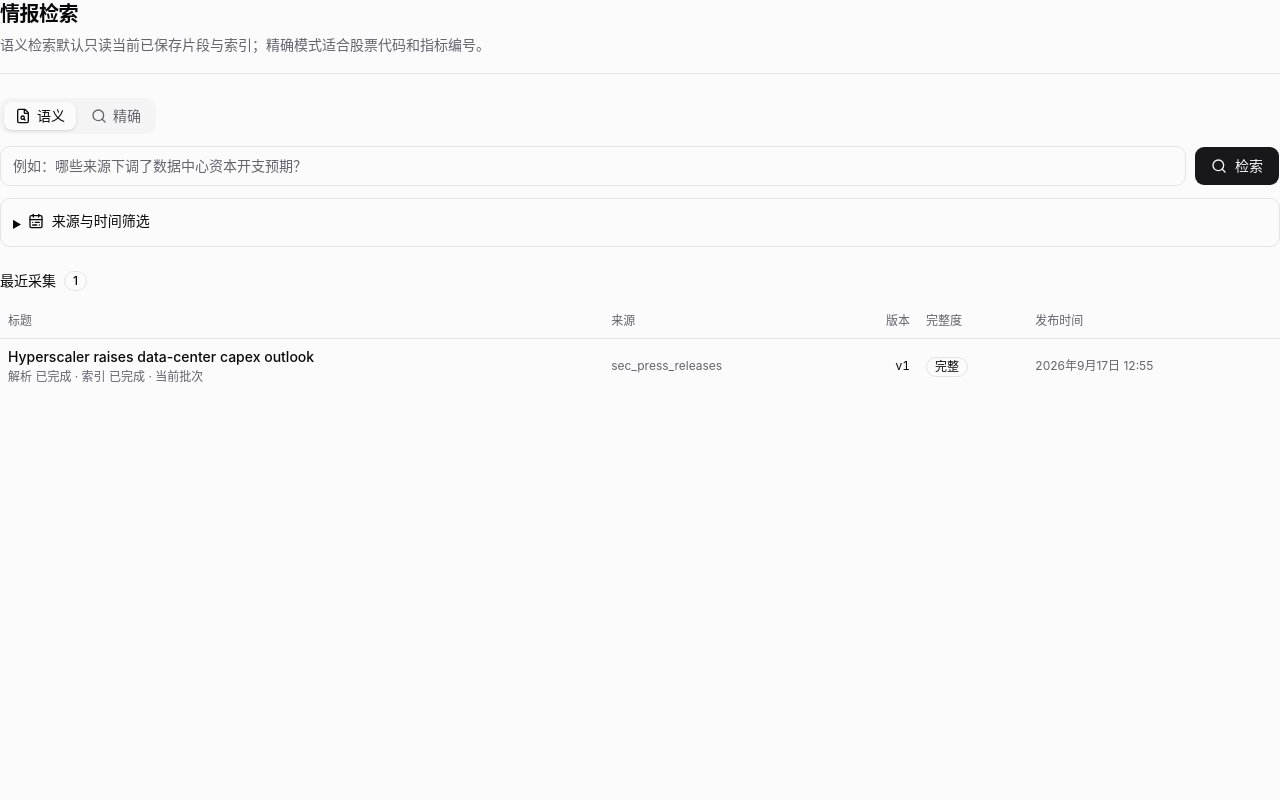
IntelligencePage against real API response shapes › renders the recent-documents list and opens the detail from it
Click the button "Hyperscaler raises data-center capex outlook".
click(302, 366)  # box top-left (8, 347), bottom-right (595, 385)
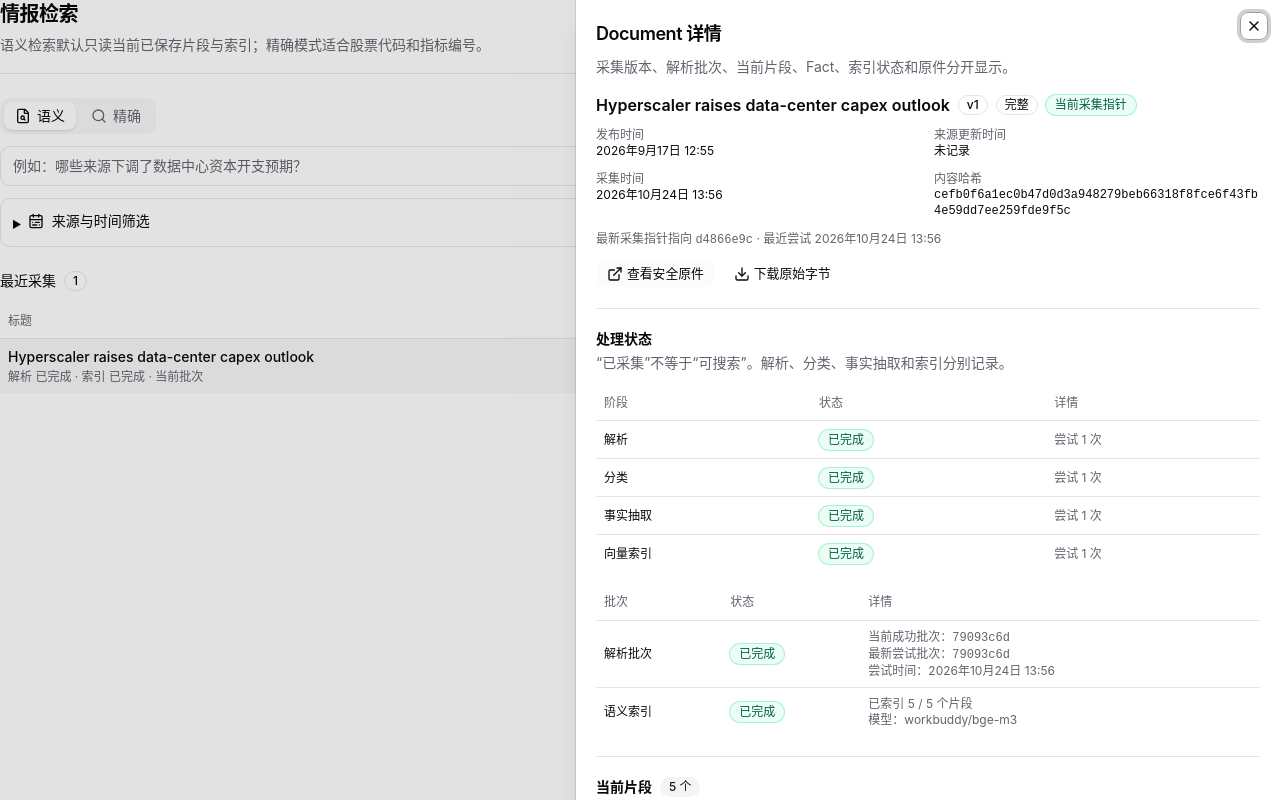
Result: the heading "当前片段" is shown at top-left (596, 777), bottom-right (652, 797)
